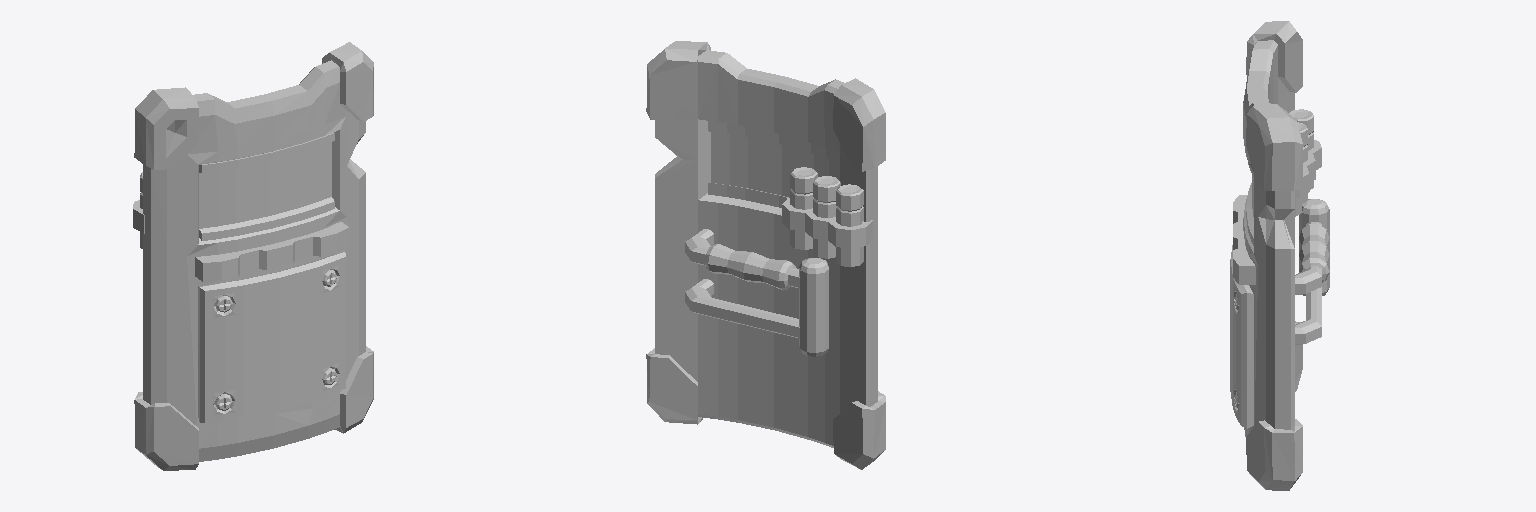
File: ballistic_shield_A.obj
The picture shows the model from 3 angles: view 1: azimuth 30°, elevation 25°; view 2: azimuth 150°, elevation 25°; view 3: azimuth 270°, elevation 25°; orthographic projection.
Parts seen in each view (by area): view 1: ballistic_shield_A_Plane.086; view 2: ballistic_shield_A_Plane.086; view 3: ballistic_shield_A_Plane.086.
Part boxes in pixels (x1,y1,x2,y2): ballistic_shield_A_Plane.086: (133, 42, 373, 470); ballistic_shield_A_Plane.086: (646, 41, 885, 469); ballistic_shield_A_Plane.086: (1230, 21, 1329, 490).
Bounding box in the file's own units: 0.8622 × 1.35 × 0.3235.